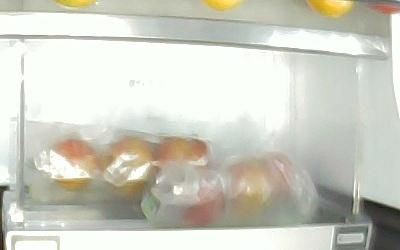prune_vinyl: (100, 136, 157, 195), (221, 155, 271, 213), (51, 136, 99, 192), (151, 135, 209, 179), (179, 172, 226, 226), (260, 154, 296, 199)
